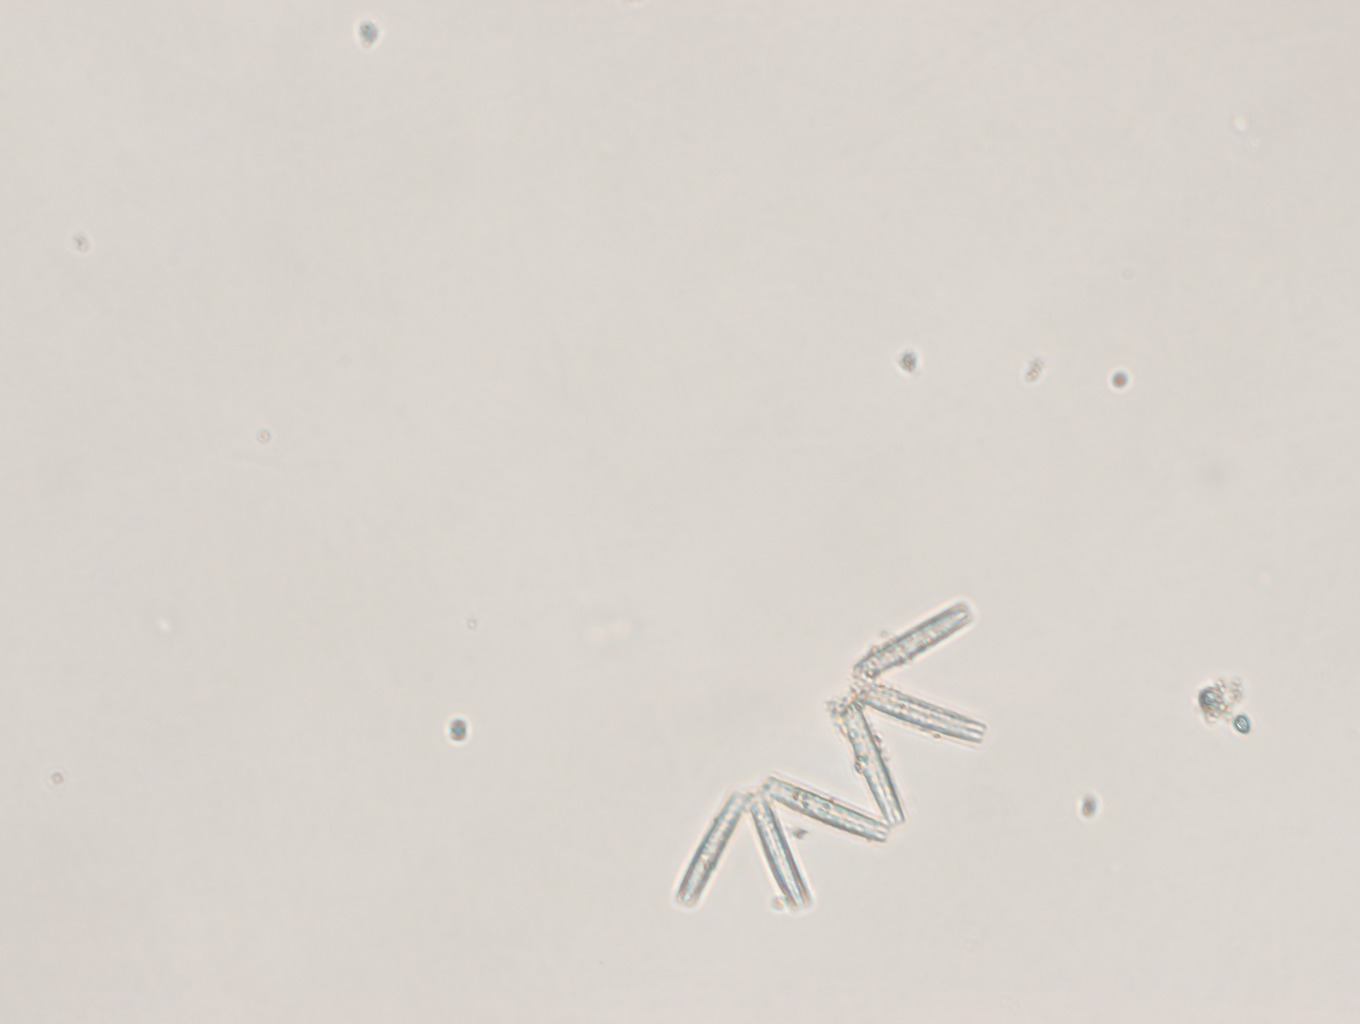thalassionema nitzschioides: (676, 601, 997, 918)
